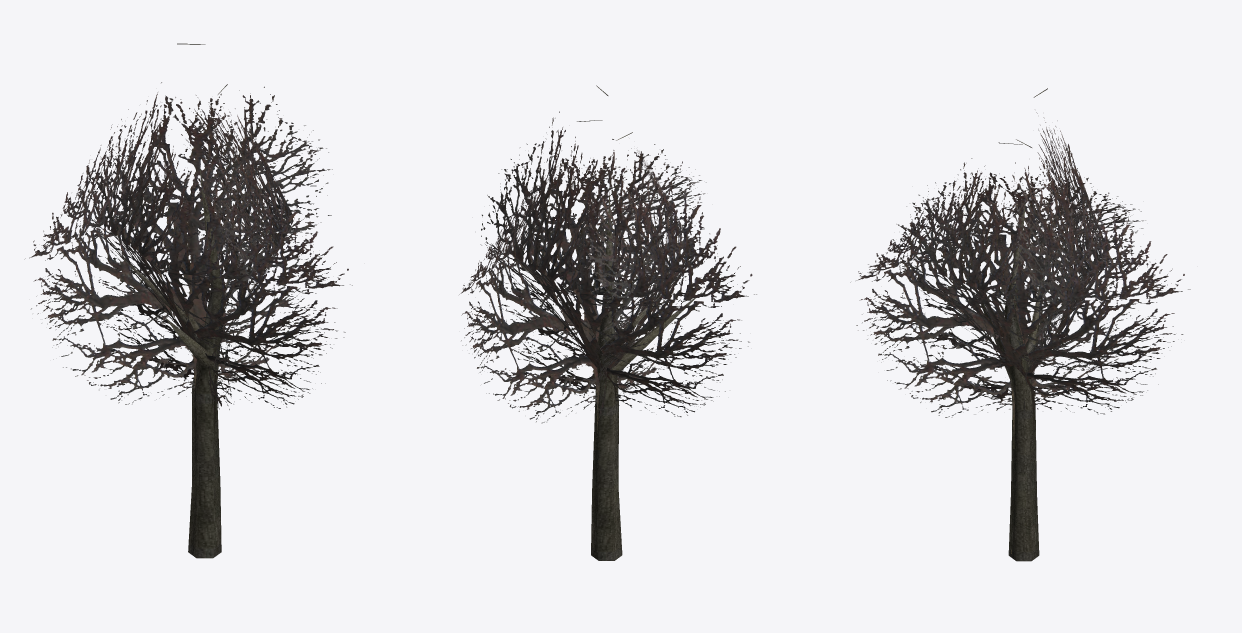
The model's file is Tree2.glb.
3 views of the same model, side by side, from view 1: azimuth 30°, elevation 25°; view 2: azimuth 150°, elevation 25°; view 3: azimuth 270°, elevation 25° (orthographic). The views are drawn at different scales.
Parts seen in each view (by area): view 1: Tree_01_Tree_01_0; view 2: Tree_01_Tree_01_0; view 3: Tree_01_Tree_01_0.
Part boxes in pixels (x1=…): Tree_01_Tree_01_0: x1=24, y1=43, x2=352, y2=558; Tree_01_Tree_01_0: x1=459, y1=85, x2=756, y2=560; Tree_01_Tree_01_0: x1=850, y1=88, x2=1190, y2=561.
Bounding box in the file's own units: 468 × 677 × 517.
Materials: 2 (2 with a texture image).
